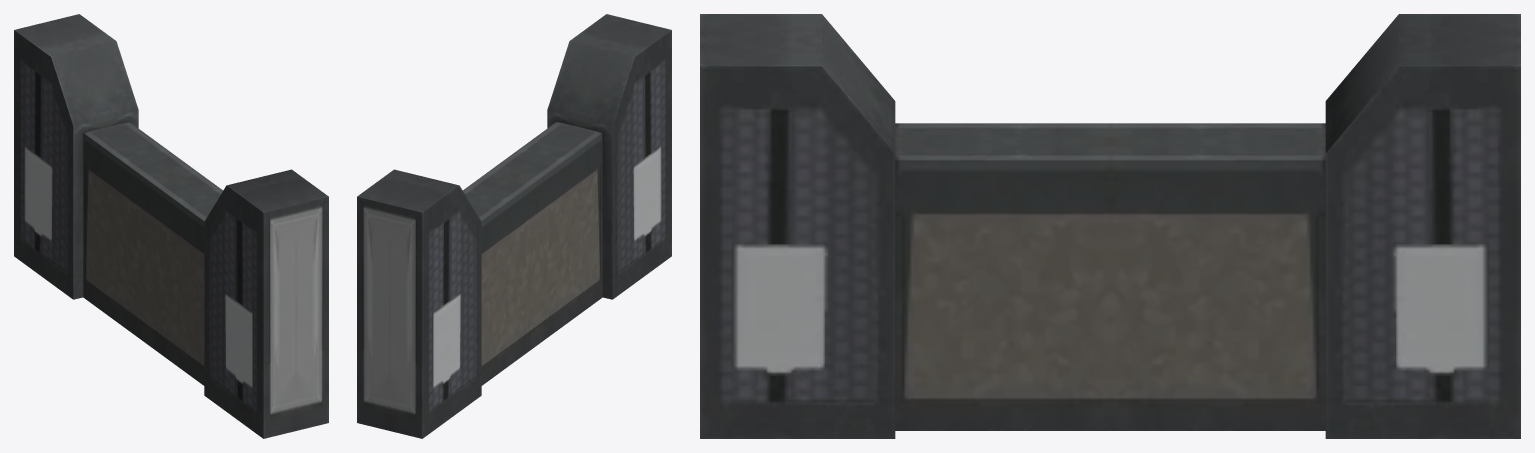
Rendered from Part - Fence 07-BGTJVvpP.glb.
The picture shows the model from 3 angles, left to right: view 1: azimuth 30°, elevation 25°; view 2: azimuth 150°, elevation 25°; view 3: azimuth 270°, elevation 25°; orthographic projection. The views are drawn at different scales.
Visible parts, largest first — view 1: Fence_07; view 2: Fence_07; view 3: Fence_07.
Part boxes in pixels (<box>): Fence_07: <box>14,14,328,438</box>; Fence_07: <box>357,14,671,438</box>; Fence_07: <box>700,14,1520,438</box>.
Size of the model in its own units: 0.301 by 0.9958 by 1.99.
Materials: 1 (1 with a texture image).
